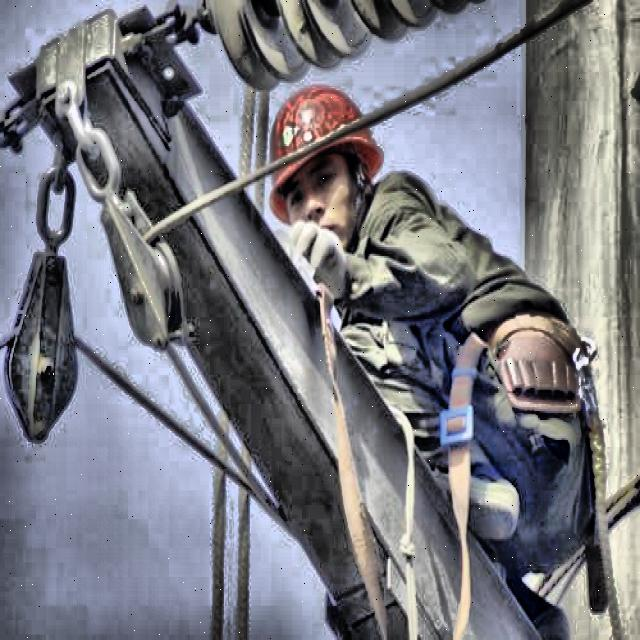helmet: (262, 70, 388, 254)
